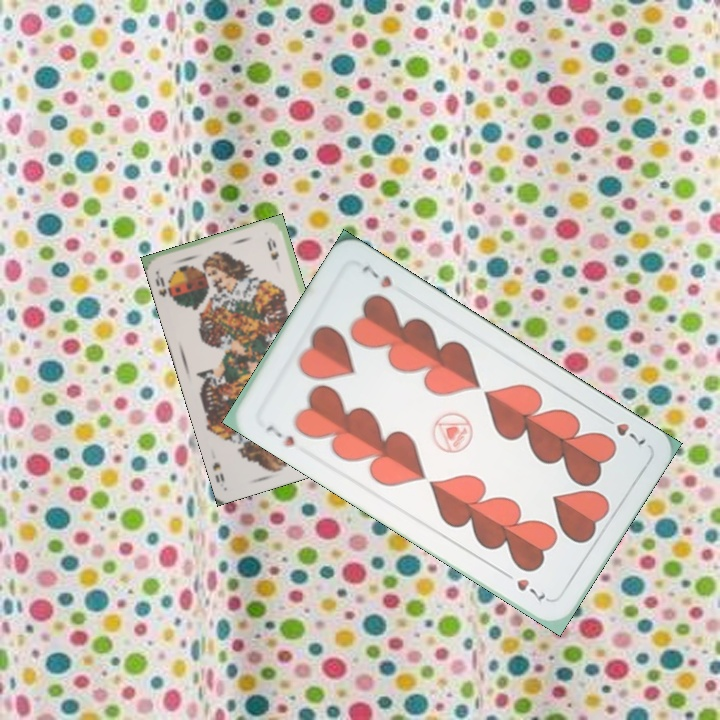H7: (597, 411, 649, 450), (261, 420, 298, 449)
SO: (151, 268, 178, 305)
